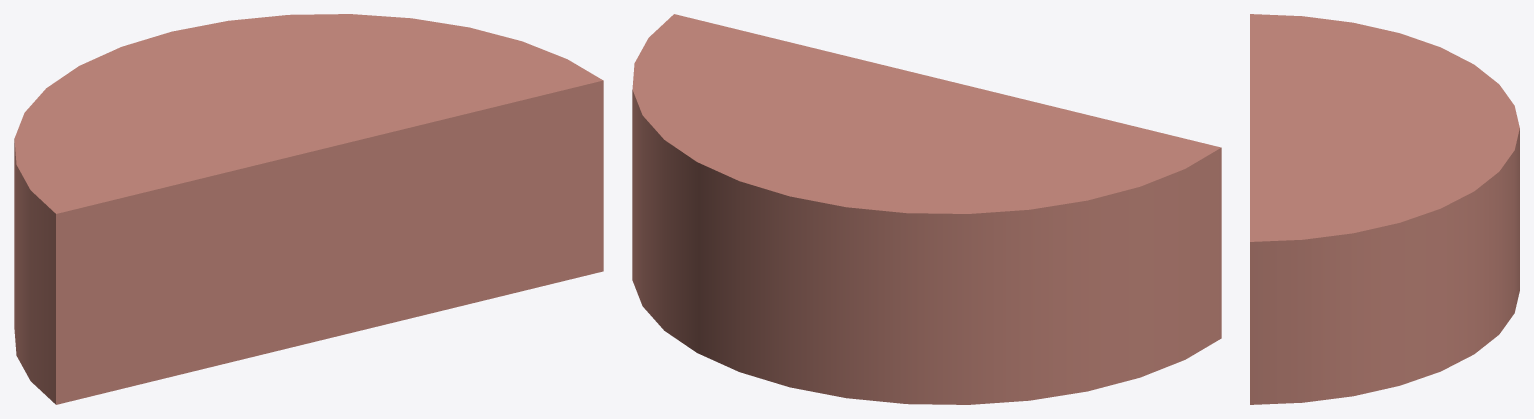
Rendered from HalfCylinder15x5.fbx.
3 renders of one model, left to right at view 1: azimuth 30°, elevation 25°; view 2: azimuth 150°, elevation 25°; view 3: azimuth 270°, elevation 25°, orthographic. The views are drawn at different scales.
Parts seen in each view (by area): view 1: HalfCylinder15x5.005; view 2: HalfCylinder15x5.005; view 3: HalfCylinder15x5.005.
Boxes of the visible parts, x1,y1,x2,y2 form: HalfCylinder15x5.005: [14, 14, 603, 404]; HalfCylinder15x5.005: [632, 14, 1221, 404]; HalfCylinder15x5.005: [1250, 14, 1519, 404].
Size of the model in its own units: 1500 by 500 by 750.
